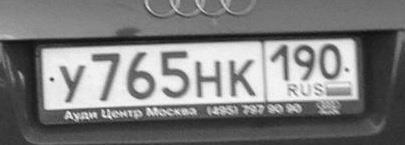license-plateSW: (35, 37, 360, 111)
